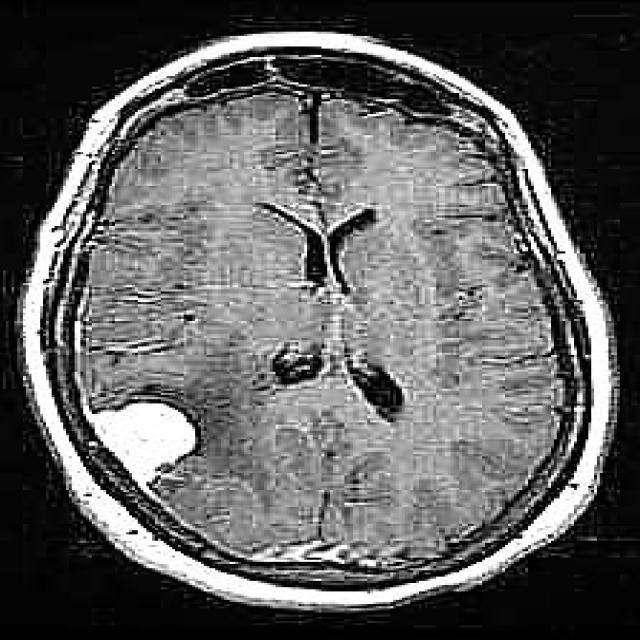brain tumor: (89, 401, 198, 490)
